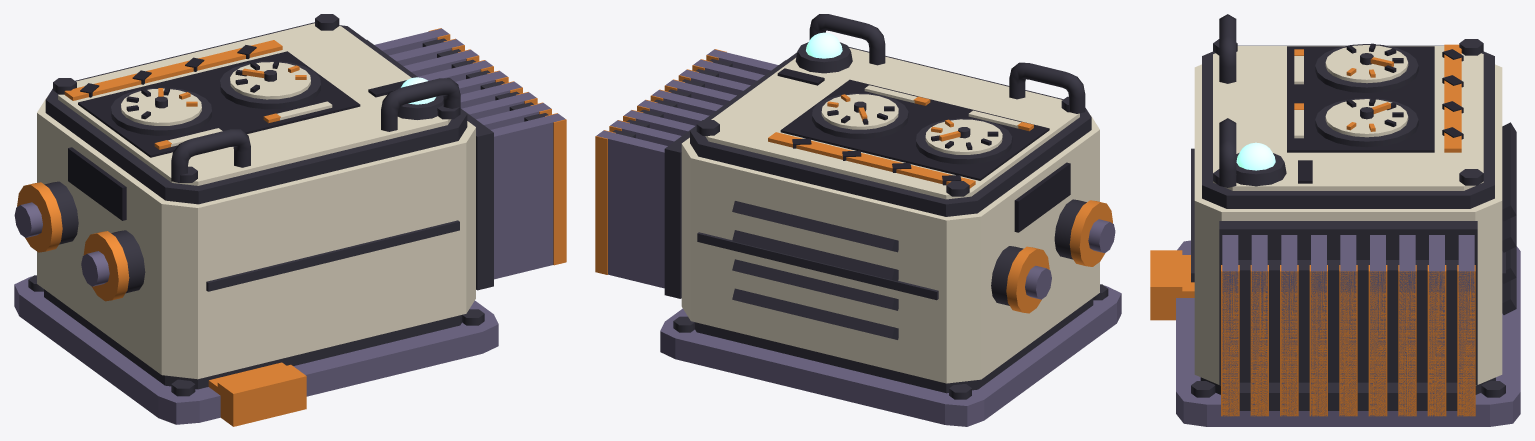
File: energy_regulator.glb
The picture shows the model from 3 angles, left to right: view 1: azimuth 30°, elevation 25°; view 2: azimuth 150°, elevation 25°; view 3: azimuth 270°, elevation 25°; orthographic projection. The views are drawn at different scales.
Parts seen in each view (by area): view 1: regulator_CreamHull, regulator_Graphite, regulator_PurpleGrey, regulator_Orange, regulator_DecalDark; view 2: regulator_CreamHull, regulator_Graphite, regulator_PurpleGrey, regulator_DecalDark, regulator_Orange, regulator_Emissive; view 3: regulator_Graphite, regulator_CreamHull, regulator_PurpleGrey, regulator_Orange, regulator_DecalDark, regulator_Emissive.
Boxes of the visible parts, x1,y1,x2,y2 form: regulator_CreamHull: (37, 23, 475, 379); regulator_Graphite: (28, 14, 548, 396); regulator_PurpleGrey: (14, 28, 565, 424); regulator_Orange: (17, 28, 566, 426); regulator_DecalDark: (68, 45, 406, 220); regulator_CreamHull: (681, 48, 1099, 383); regulator_Graphite: (613, 14, 1108, 399); regulator_PurpleGrey: (596, 49, 1121, 426); regulator_DecalDark: (777, 68, 1070, 232); regulator_Orange: (595, 49, 1112, 313); regulator_Emissive: (806, 32, 842, 58); regulator_Graphite: (1191, 14, 1516, 410); regulator_CreamHull: (1194, 45, 1502, 385); regulator_PurpleGrey: (1176, 235, 1520, 426); regulator_Orange: (1150, 44, 1475, 416); regulator_DecalDark: (1287, 43, 1463, 183); regulator_Emissive: (1236, 142, 1275, 170).
Bounding box in the file's own units: 0.424 × 0.238 × 0.301.
